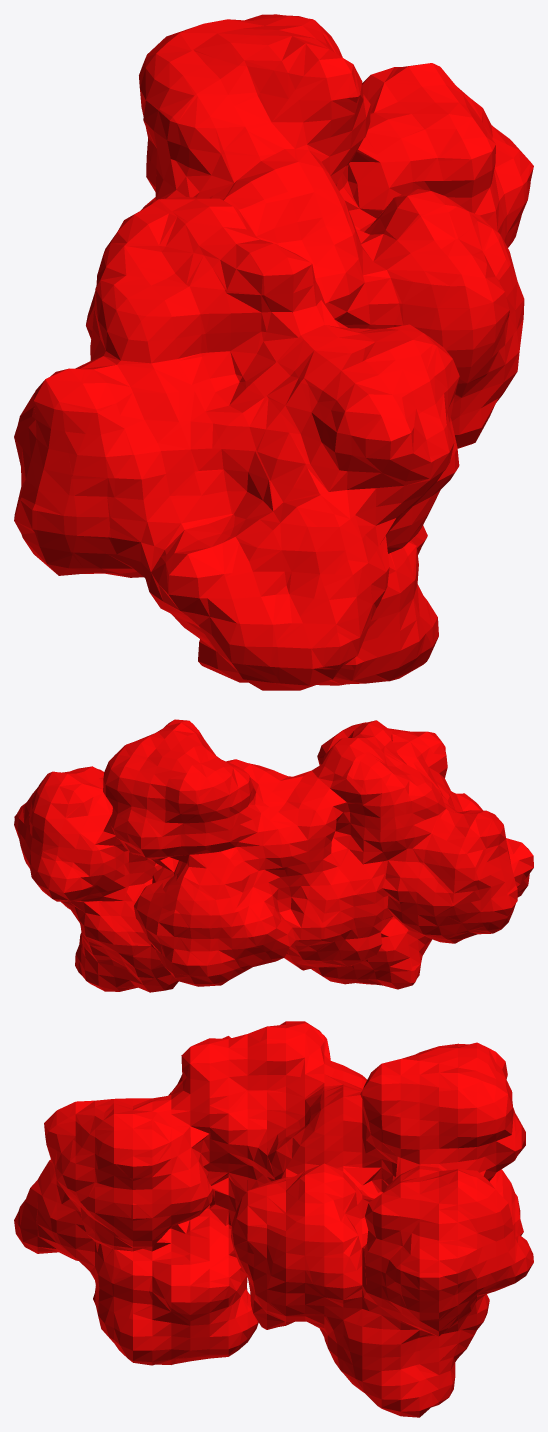
File: dinJ_coarse.dae
3 renders of one model, top to bottom at view 1: azimuth 30°, elevation 25°; view 2: azimuth 150°, elevation 25°; view 3: azimuth 270°, elevation 25°, orthographic. The views are drawn at different scales.
Parts seen in each view (by area): view 1: dinJ; view 2: dinJ; view 3: dinJ.
Boxes of the visible parts, x1,y1,x2,y2 form: dinJ: (14, 14, 533, 690); dinJ: (14, 719, 533, 992); dinJ: (14, 1021, 533, 1417).
Size of the model in its own units: 123 by 87.38 by 120.
